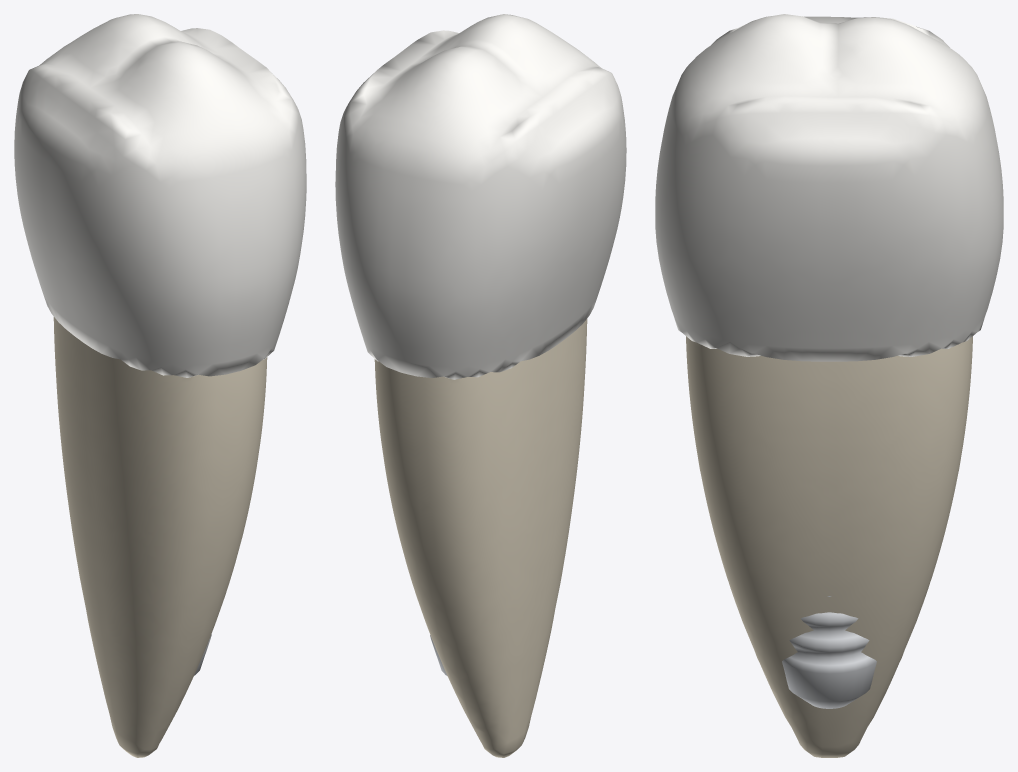
3 renders of one model, left to right at view 1: azimuth 30°, elevation 25°; view 2: azimuth 150°, elevation 25°; view 3: azimuth 270°, elevation 25°, orthographic. The views are drawn at different scales.
Parts seen in each view (by area): view 1: crown, root; view 2: crown, root; view 3: crown, root, implant.
Boxes of the visible parts, left/top/right/bottom form: crown: left=14, top=14, right=306, bottom=377; root: left=53, top=317, right=267, bottom=757; crown: left=335, top=14, right=626, bottom=379; root: left=374, top=319, right=587, bottom=757; crown: left=655, top=14, right=1003, bottom=361; root: left=686, top=336, right=972, bottom=757; implant: left=782, top=596, right=876, bottom=708.
Bounding box in the file's own units: 7.69 × 23.04 × 9.69.
